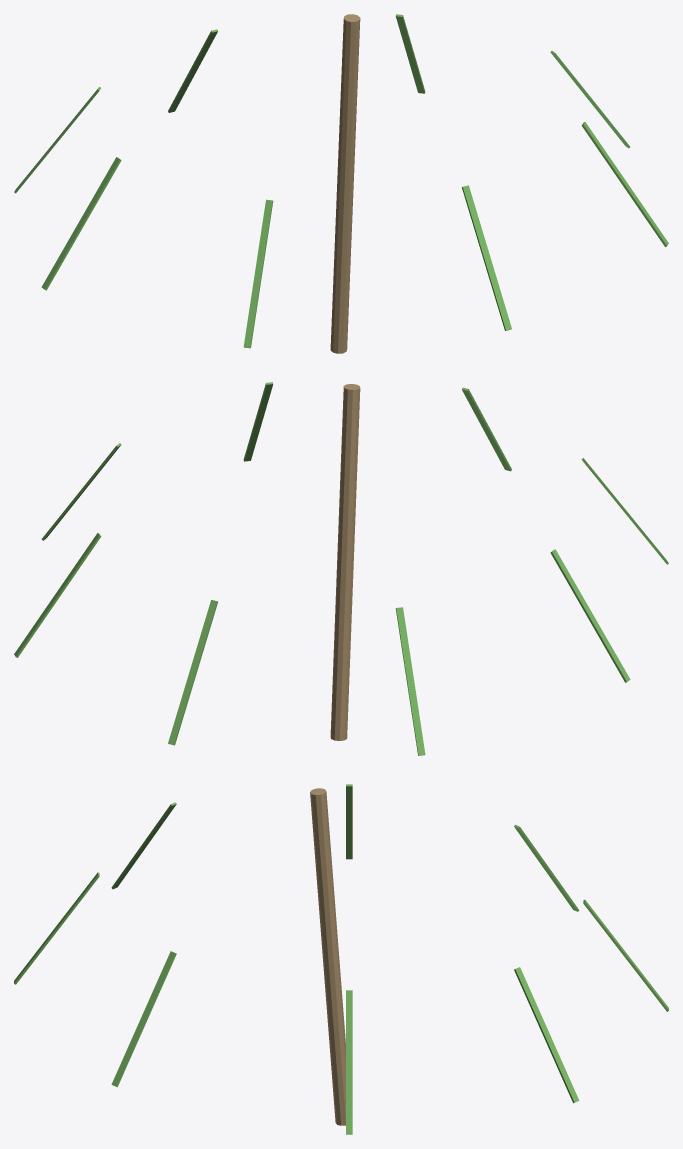
Rendered from Veg_CoconutPalm_A.fbx.
The picture shows the model from 3 angles, top to bottom: view 1: azimuth 30°, elevation 25°; view 2: azimuth 150°, elevation 25°; view 3: azimuth 270°, elevation 25°; orthographic projection. The views are drawn at different scales.
Visible parts, largest first — view 1: Veg_CoconutPalm_A; view 2: Veg_CoconutPalm_A; view 3: Veg_CoconutPalm_A.
Part boxes in pixels (x1,y1,x2,y2): Veg_CoconutPalm_A: [14, 14, 668, 353]; Veg_CoconutPalm_A: [14, 382, 668, 755]; Veg_CoconutPalm_A: [14, 784, 668, 1134].
Size of the model in its own units: 14.33 by 8.01 by 14.33.
